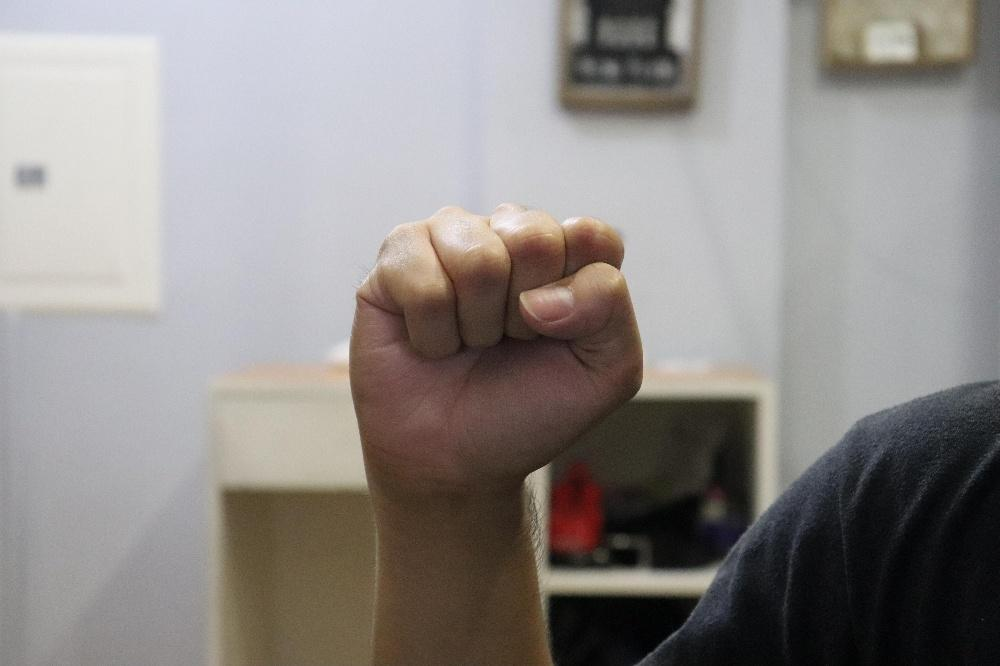s: (349, 202, 642, 497)
